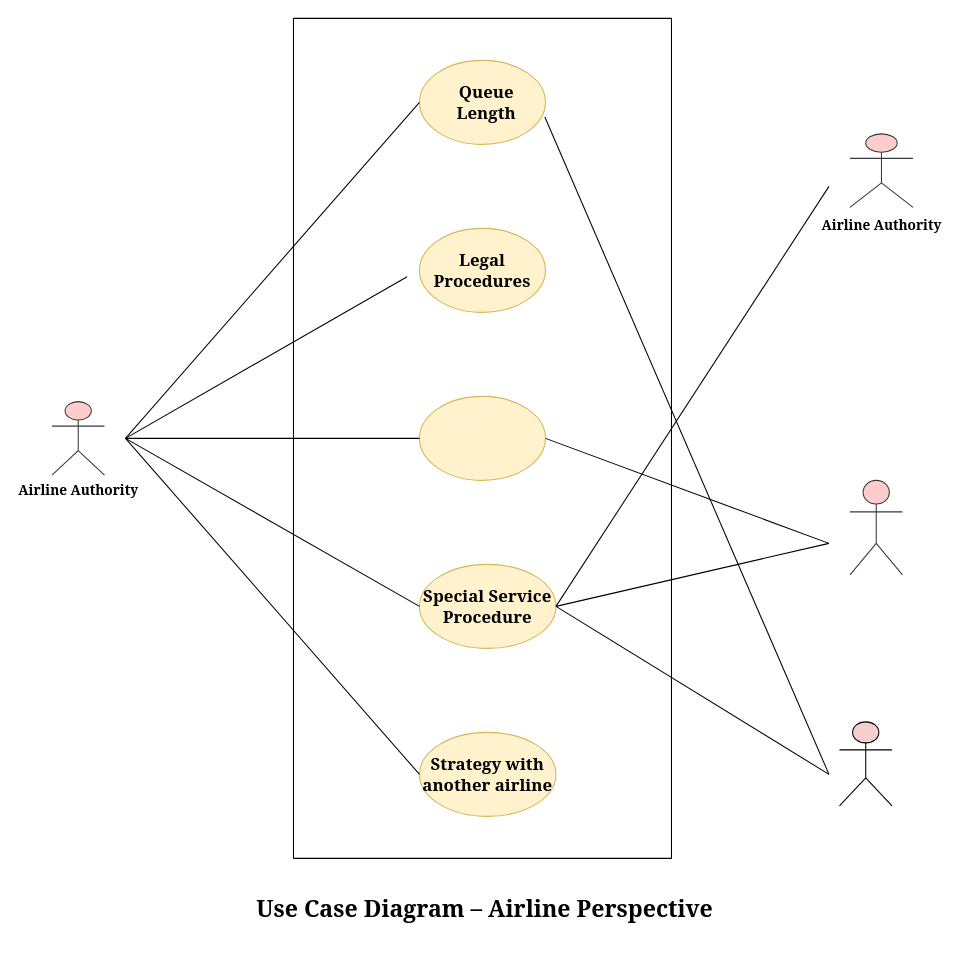
This 959x971 diagram has some shape labels left out. Each missing label, with the centre of its shape:
"Crew" belongs at point 875,527.
"No. of Counters" belongs at point 481,437.
"Passenger" belongs at point 865,763.
